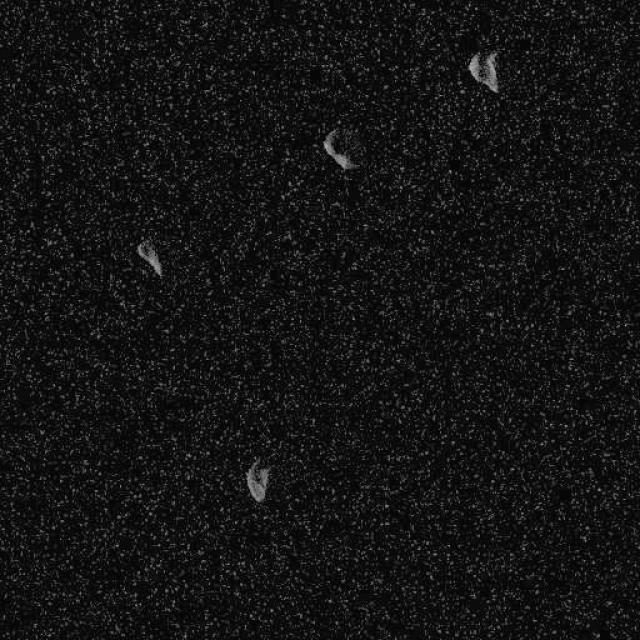D2: (321, 126, 360, 172), (468, 48, 498, 92), (135, 238, 164, 278), (245, 457, 270, 502)
